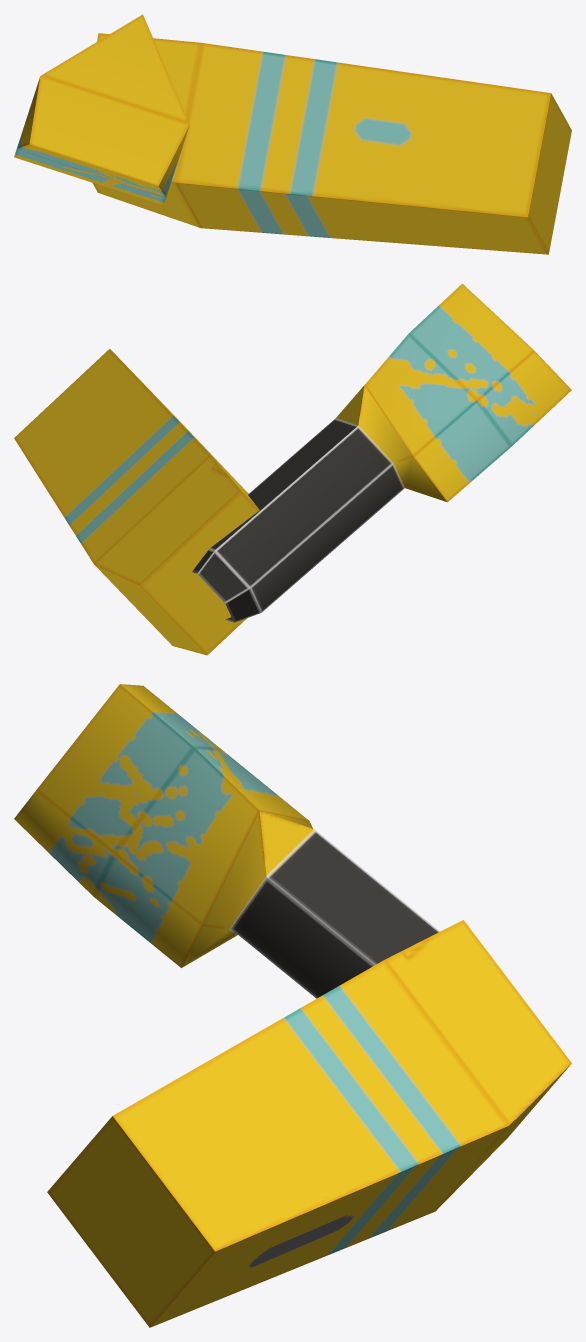
The model's file is scrap_arm.fbx.
3 views of the same model, one above another, from view 1: azimuth 30°, elevation 25°; view 2: azimuth 150°, elevation 25°; view 3: azimuth 270°, elevation 25° (orthographic). The views are drawn at different scales.
Parts seen in each view (by area): view 1: forearm_l, shoulder_l; view 2: shoulder_l, forearm_l; view 3: forearm_l, shoulder_l.
Part boxes in pixels (left/top/right/bottom): forearm_l: left=92, top=33, right=571, bottom=254; shoulder_l: left=14, top=14, right=189, bottom=205; shoulder_l: left=192, top=283, right=571, bottom=622; forearm_l: left=14, top=349, right=259, bottom=655; forearm_l: left=47, top=920, right=571, bottom=1327; shoulder_l: left=14, top=684, right=439, bottom=998.
Size of the model in its own units: 2.25 by 1.31 by 1.59.
Materials: 1 (1 with a texture image).
